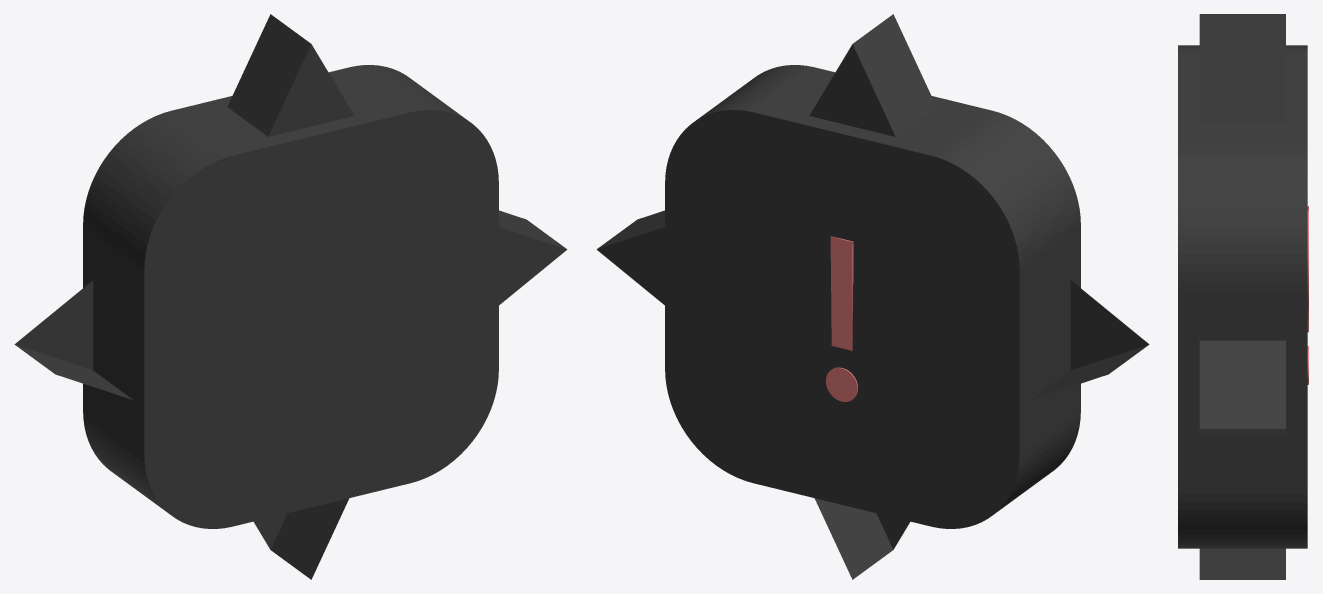
File: avoidNote_original.fbx
3 views of the same model, side by side, from view 1: azimuth 30°, elevation 25°; view 2: azimuth 150°, elevation 25°; view 3: azimuth 270°, elevation 25° (orthographic). The views are drawn at different scales.
Parts seen in each view (by area): view 1: Cube.002; view 2: Cube.002; view 3: Cube.002.
Boxes of the visible parts, x1,y1,x2,y2 form: Cube.002: (14, 14, 567, 579); Cube.002: (596, 14, 1149, 579); Cube.002: (1178, 14, 1308, 579).
Size of the model in its own units: 289 by 289 by 60.56.
1 material, 1 textured.
